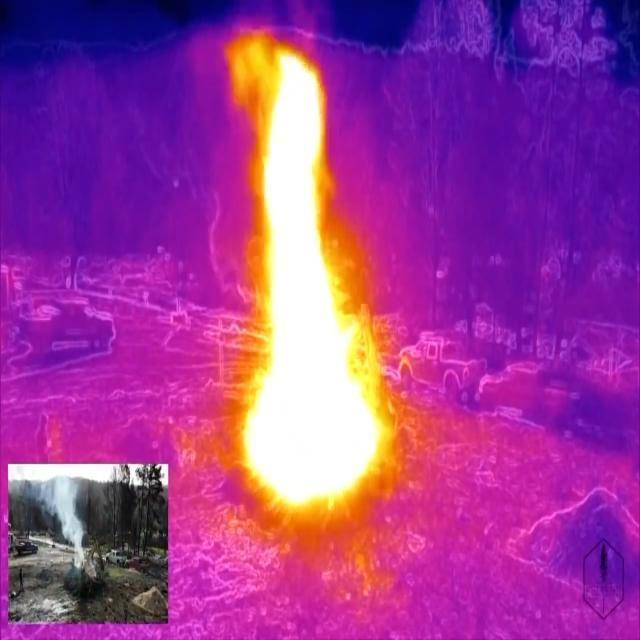fire: (243, 49, 380, 512)
